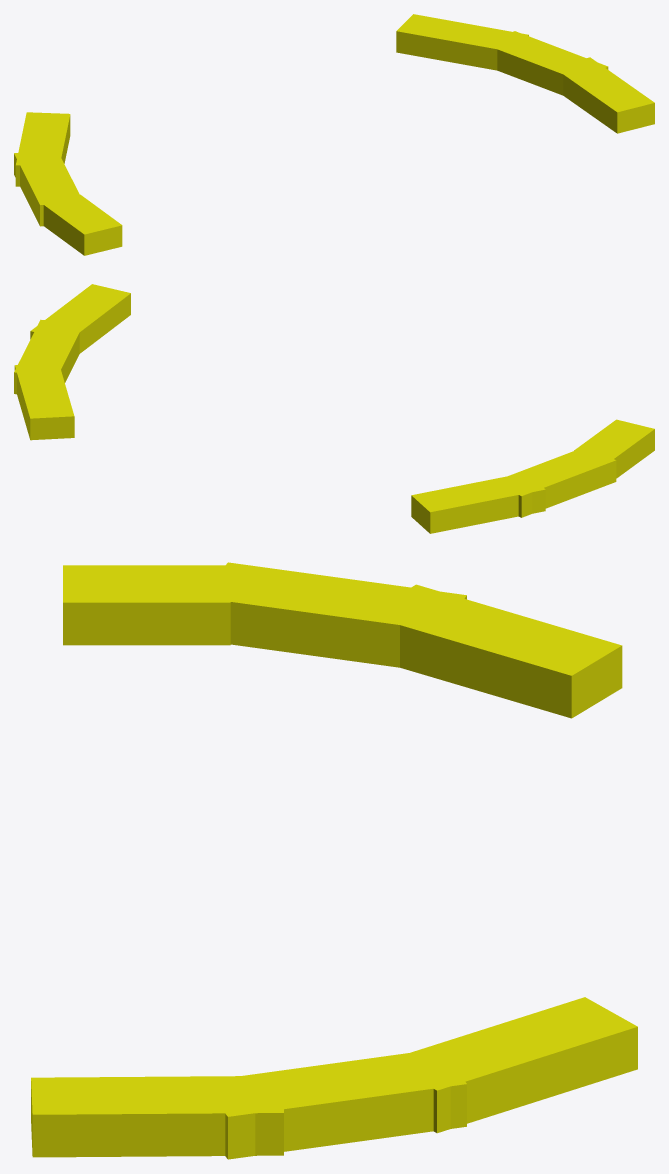
Rendered from muros para collider.fbx.
The picture shows the model from 3 angles, top to bottom: view 1: azimuth 30°, elevation 25°; view 2: azimuth 150°, elevation 25°; view 3: azimuth 270°, elevation 25°; orthographic projection. The views are drawn at different scales.
Parts seen in each view (by area): view 1: pCube14, pCube12, pCube13, pCube2, pCube17, pCube16; view 2: pCube17, pCube14, pCube16, pCube12, pCube2, pCube13; view 3: pCube17, pCube13, pCube12, pCube16, pCube14, pCube2.
Part boxes in pixels (bbox=[...]): pCube14: bbox=[396, 14, 528, 70]; pCube12: bbox=[553, 57, 654, 133]; pCube13: bbox=[488, 31, 608, 95]; pCube2: bbox=[43, 194, 122, 255]; pCube17: bbox=[15, 112, 70, 186]; pCube16: bbox=[14, 152, 82, 226]; pCube17: bbox=[411, 472, 545, 533]; pCube14: bbox=[14, 363, 74, 440]; pCube16: bbox=[509, 446, 616, 517]; pCube12: bbox=[30, 284, 130, 353]; pCube2: bbox=[574, 419, 654, 478]; pCube13: bbox=[14, 319, 83, 394]; pCube17: bbox=[366, 584, 622, 718]; pCube13: bbox=[201, 1048, 466, 1159]; pCube12: bbox=[31, 1076, 283, 1157]; pCube16: bbox=[201, 562, 466, 667]; pCube14: bbox=[411, 997, 637, 1133]; pCube2: bbox=[63, 565, 230, 645].
Size of the model in its own units: 139 by 5 by 64.47.
